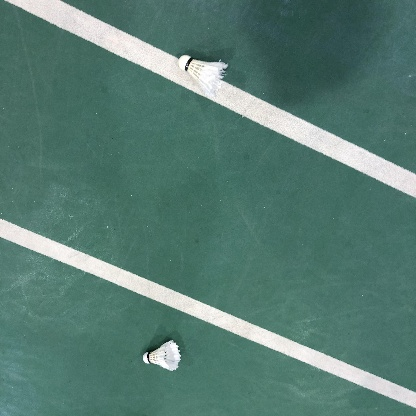ball_single: (178, 55, 228, 97), (143, 340, 181, 371)
